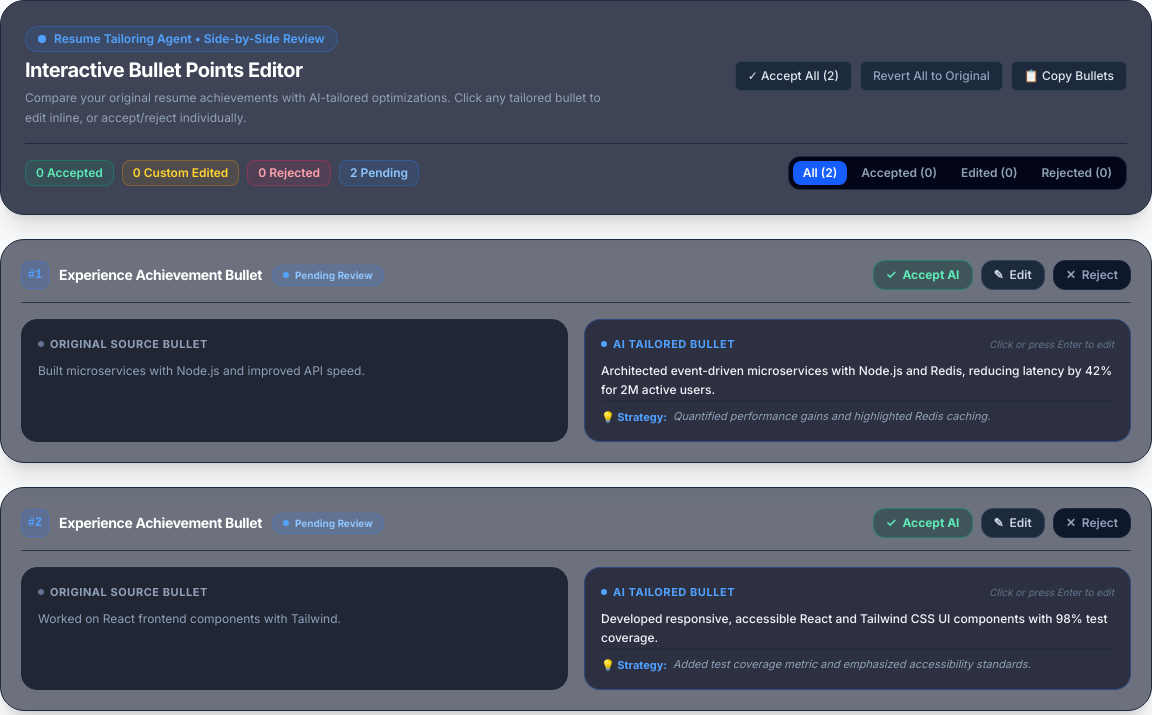
Scenario: BulletsEditor Component › supports inline editing and saves custom edits
Click the button with aria-label "Edit bullet #1 inline" at (1013, 275), box [980, 260, 1045, 290]
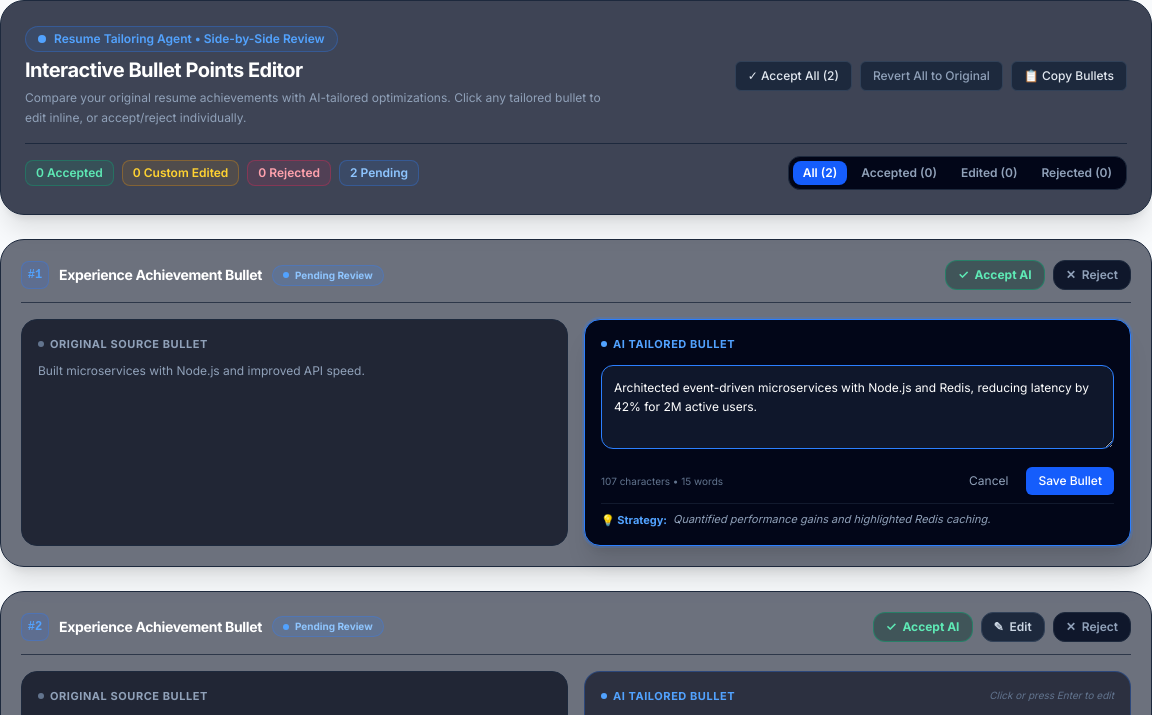
Expected: the text box with placeholder "Edit your tailored achievement bullet..." is shown
Replace the text in the text box with placeholder "Edit your tailored achievement bullet..." with "Customized bullet point with unique metrics." at (858, 407), box [601, 364, 1114, 449]
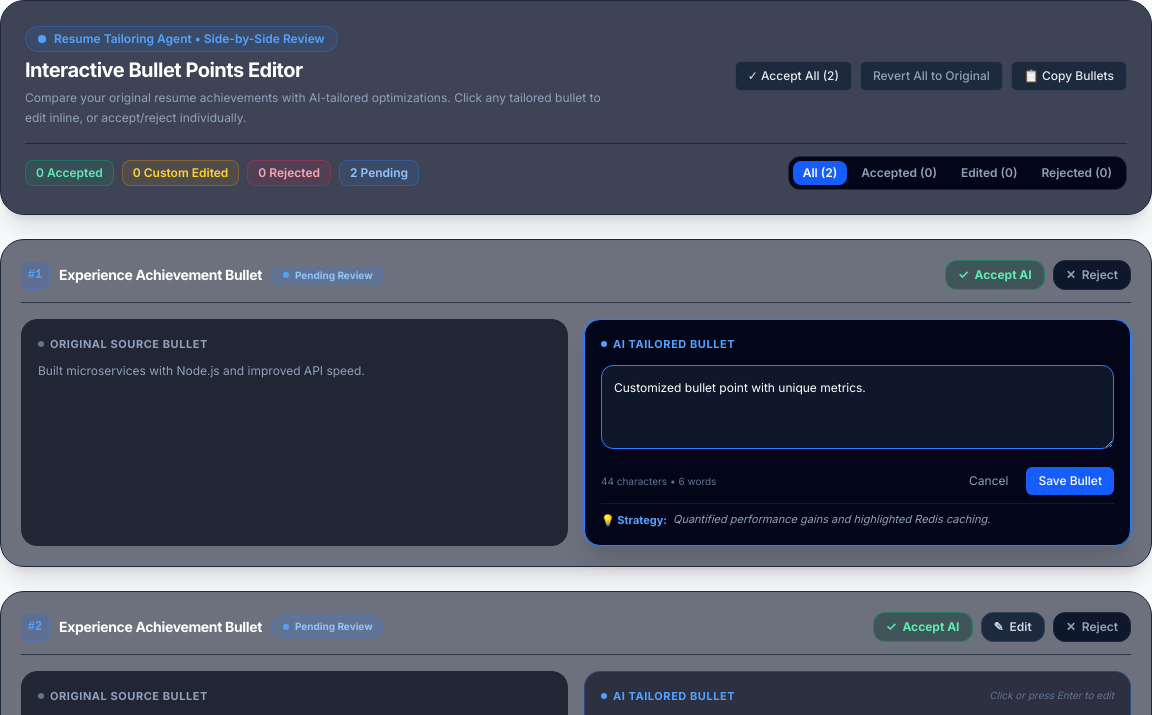
Click the button with aria-label "Save edited bullet #1" at (1070, 481), box [1026, 467, 1114, 495]
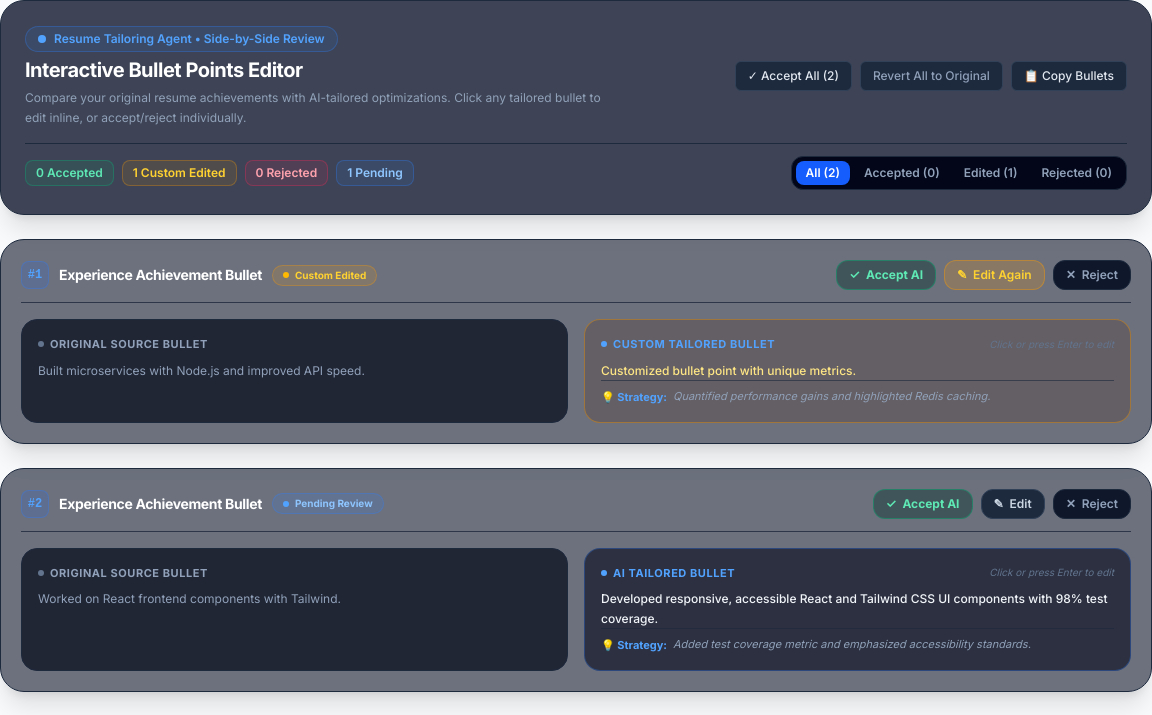
Expected: the text "Custom Edited" is shown, [272, 264, 377, 286]
Expected: the text "Customized bullet point with unique metrics." is shown, [601, 362, 856, 378]
